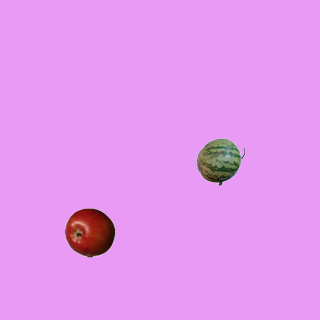Apple Braeburn: (64, 207, 114, 257)
Watermelon: (195, 136, 245, 186)
